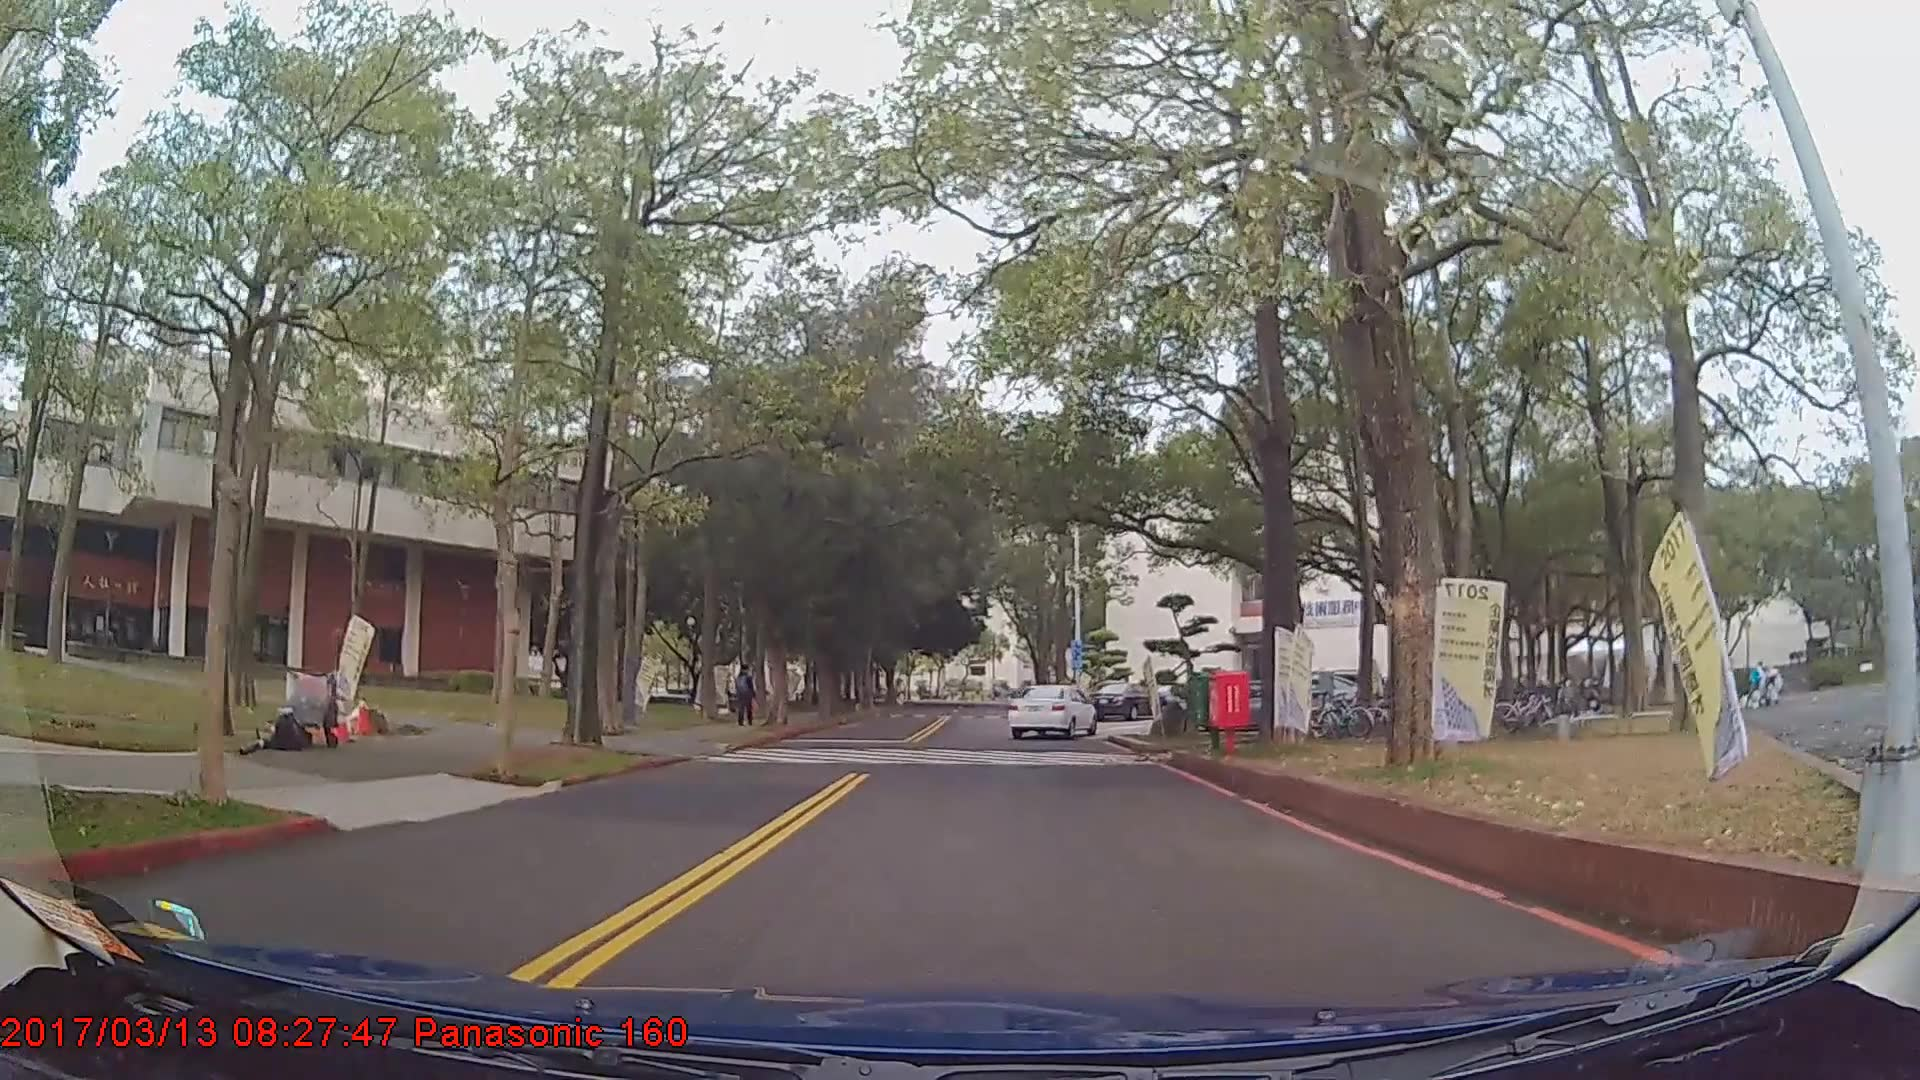pedestrian: (735, 667, 759, 730)
vehicle: (1007, 681, 1095, 739), (1090, 679, 1169, 720)
